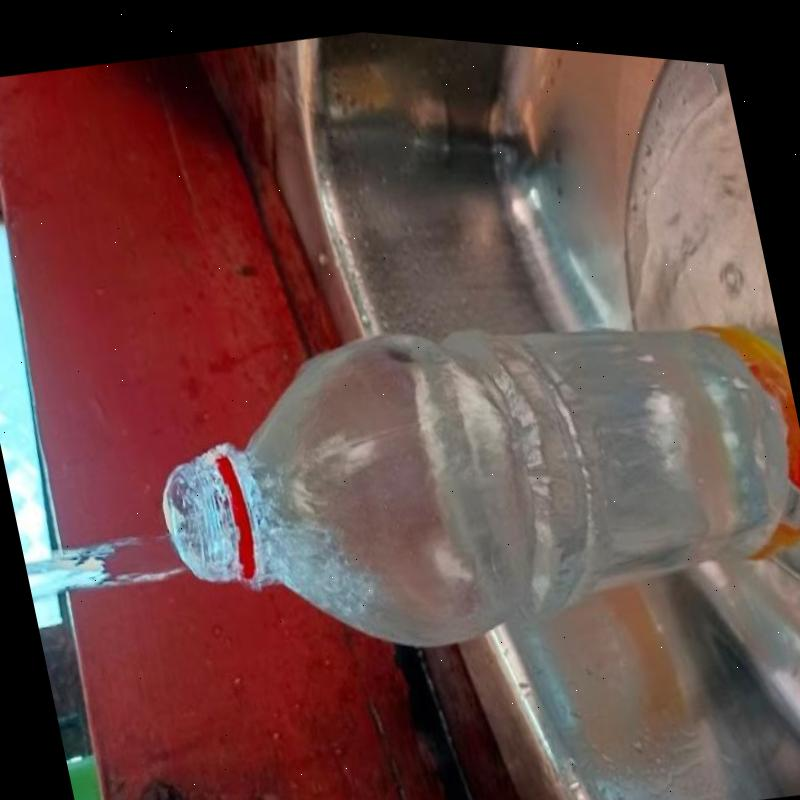botella: (138, 225, 800, 712)
